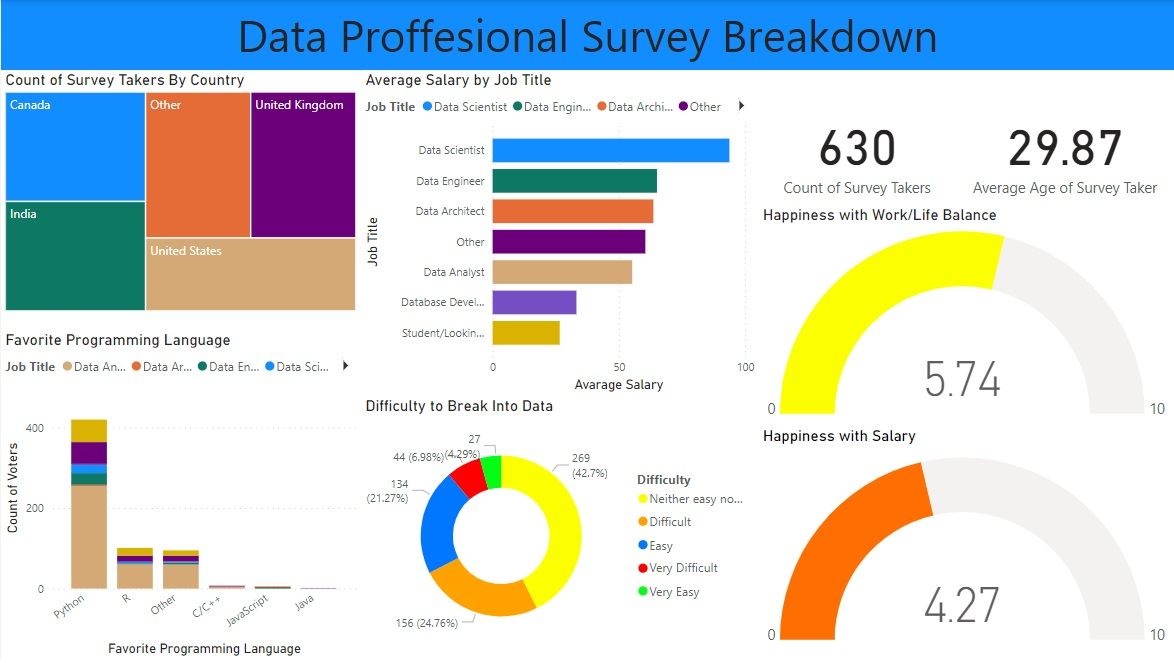

Layout of this report page (visuals, bound fields, positions):
{"tool":"powerbi","page":{"name":"Page 1","canvas":[1280,720],"ordinal":0},"visuals":[{"type":"textbox","box":[0,0,1280.3,76.8],"z":0},{"type":"card","fields":{"Values":["CountNonNull(Data Professional Survey.Unique ID)"]},"box":[826.6,76.4,215.6,178.2],"z":1000},{"type":"card","fields":{"Values":["Avg(Data Professional Survey.Q10 - Current Age)"]},"box":[1042.2,76.4,238.1,178.2],"z":2000},{"type":"barChart","title":"Average Salary by Job Title","fields":{"Category":["Data Professional Survey.Q1 - Which Title Best Fits your Current Role?.1"],"Y":["Avg(Data Professional Survey.Avarage Salary)"],"Series":["Data Professional Survey.Q1 - Which Title Best Fits your Current Role?.1"]},"box":[392.3,76.4,434.3,356.4],"z":3000},{"type":"columnChart","title":"Favorite Programming Language","fields":{"Category":["Data Professional Survey.Q5 - Favorite Programming Language.1"],"Y":["CountNonNull(Data Professional Survey.Unique ID)"],"Series":["Data Professional Survey.Q1 - Which Title Best Fits your Current Role?.1"]},"box":[0,359.4,392.3,360.9],"z":4000},{"type":"treemap","title":"Count of Survey Takers By Country","fields":{"Group":["Data Professional Survey.Q11 - Which Country do you live in?.1"],"Values":["Count(Data Professional Survey.Q11 - Which Country do you live in?.1)"]},"box":[0,76.4,392.3,268],"z":5000},{"type":"gauge","title":"Happiness with Work/Life Balance","fields":{"Y":["Avg(Data Professional Survey.Q6 - How Happy are you in your Current Position with the following? (Work/Life Balance))"],"MinValue":["Min(Data Professional Survey.Q6 - How Happy are you in your Current Position with the following? (Work/Life Balance))1"],"MaxValue":["Max(Data Professional Survey.Q6 - How Happy are you in your Current Position with the following? (Work/Life Balance))2"]},"box":[826.6,223.1,453.7,242.6],"z":6000},{"type":"gauge","title":"Happiness with Salary","fields":{"Y":["Avg(Data Professional Survey.Q6 - How Happy are you in your Current Position with the following? (Salary))"],"MinValue":["Min(Data Professional Survey.Q6 - How Happy are you in your Current Position with the following? (Salary))1"],"MaxValue":["Max(Data Professional Survey.Q6 - How Happy are you in your Current Position with the following? (Salary))2"]},"box":[826.6,465.7,453.7,253.1],"z":7000},{"type":"donutChart","title":"Difficulty to Break Into Data","fields":{"Category":["Data Professional Survey.Q7 - How difficult was it for you to break into Data?"],"Y":["CountNonNull(Data Professional Survey.Q7 - How difficult was it for you to break into Data?)"]},"box":[392.3,432.8,434.3,286],"z":8000}]}

Visuals, with their boxes in screenshot pixels (x1, y1, x2, y2), scaled from the page's 1280x720 canvas onto the 1174x663 screenshot:
textbox: x1=0 y1=0 x2=1173 y2=71
card - CountNonNull(Data Professional Survey.Unique ID): x1=758 y1=70 x2=956 y2=234
card - Avg(Data Professional Survey.Q10 - Current Age): x1=956 y1=70 x2=1173 y2=234
"Average Salary by Job Title" barChart: x1=360 y1=70 x2=758 y2=399
"Favorite Programming Language" columnChart: x1=0 y1=331 x2=360 y2=662
"Count of Survey Takers By Country" treemap: x1=0 y1=70 x2=360 y2=317
"Happiness with Work/Life Balance" gauge: x1=758 y1=205 x2=1173 y2=429
"Happiness with Salary" gauge: x1=758 y1=429 x2=1173 y2=662
"Difficulty to Break Into Data" donutChart: x1=360 y1=399 x2=758 y2=662
